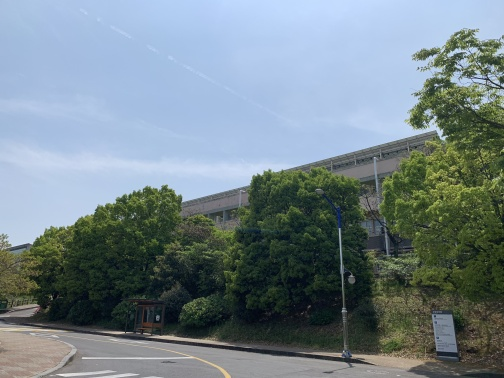College Of Education: (158, 128, 473, 277)
